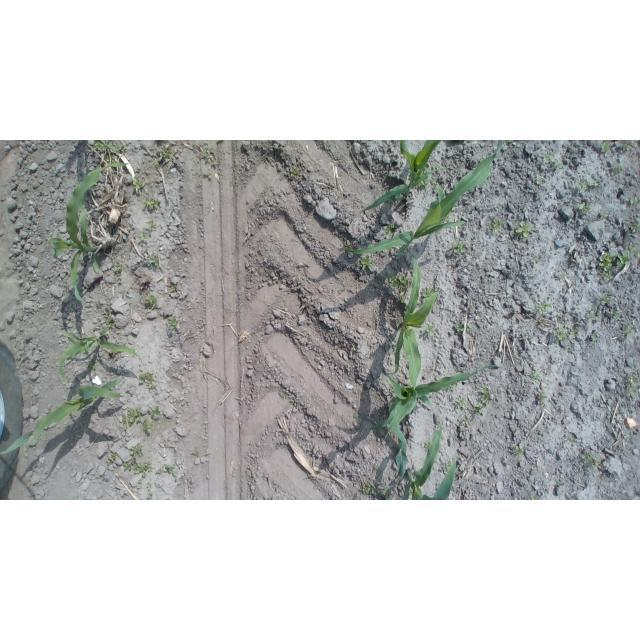Maize: (347, 140, 511, 260), (375, 360, 498, 447), (46, 164, 120, 305), (2, 379, 129, 458), (391, 259, 442, 397), (362, 141, 448, 214), (396, 420, 461, 501), (56, 326, 144, 383)
Weeds: (598, 251, 631, 282), (90, 140, 129, 162), (388, 274, 412, 302), (122, 458, 154, 474), (553, 326, 581, 342), (153, 148, 176, 167), (120, 407, 144, 425), (513, 220, 535, 239), (203, 147, 222, 168), (138, 372, 157, 391), (543, 153, 564, 170), (580, 452, 601, 469), (626, 374, 640, 399), (360, 485, 383, 499), (164, 315, 181, 333), (142, 293, 160, 310), (577, 179, 600, 192), (359, 254, 375, 272), (143, 197, 161, 212), (162, 462, 178, 478), (419, 170, 431, 191), (479, 386, 493, 404), (489, 218, 505, 233), (450, 241, 467, 255), (529, 369, 544, 384), (130, 176, 146, 190), (128, 444, 145, 457), (513, 445, 527, 460), (455, 395, 470, 409), (453, 323, 472, 334), (421, 285, 434, 301), (280, 394, 298, 405), (148, 404, 161, 419), (103, 315, 116, 329), (472, 404, 486, 417), (628, 242, 640, 257), (623, 328, 635, 343), (146, 220, 159, 233), (533, 173, 546, 186), (579, 202, 592, 215), (148, 254, 160, 268), (112, 261, 124, 275), (384, 221, 396, 235), (424, 323, 436, 337), (598, 141, 612, 153), (537, 300, 551, 312), (609, 309, 623, 321), (589, 331, 601, 345), (586, 309, 597, 324), (611, 162, 624, 174), (459, 415, 473, 426), (146, 480, 154, 499), (597, 211, 612, 221), (630, 222, 640, 237), (341, 242, 353, 254), (628, 196, 640, 208), (528, 492, 544, 501), (143, 422, 154, 435), (289, 165, 300, 178), (623, 142, 636, 153), (446, 461, 455, 476), (599, 293, 610, 305), (537, 392, 548, 404), (423, 440, 436, 450), (137, 231, 148, 242), (170, 282, 179, 295), (108, 452, 118, 463), (87, 360, 97, 370), (192, 446, 199, 459), (136, 478, 145, 487), (353, 413, 362, 420), (156, 467, 163, 475), (350, 345, 357, 351)
